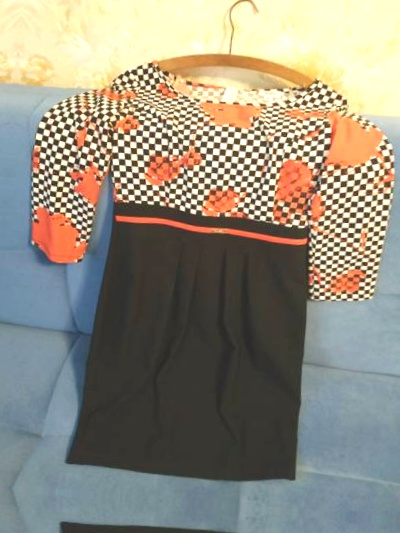Dress: (0, 29, 400, 506), (0, 501, 369, 533), (0, 0, 8, 471)
